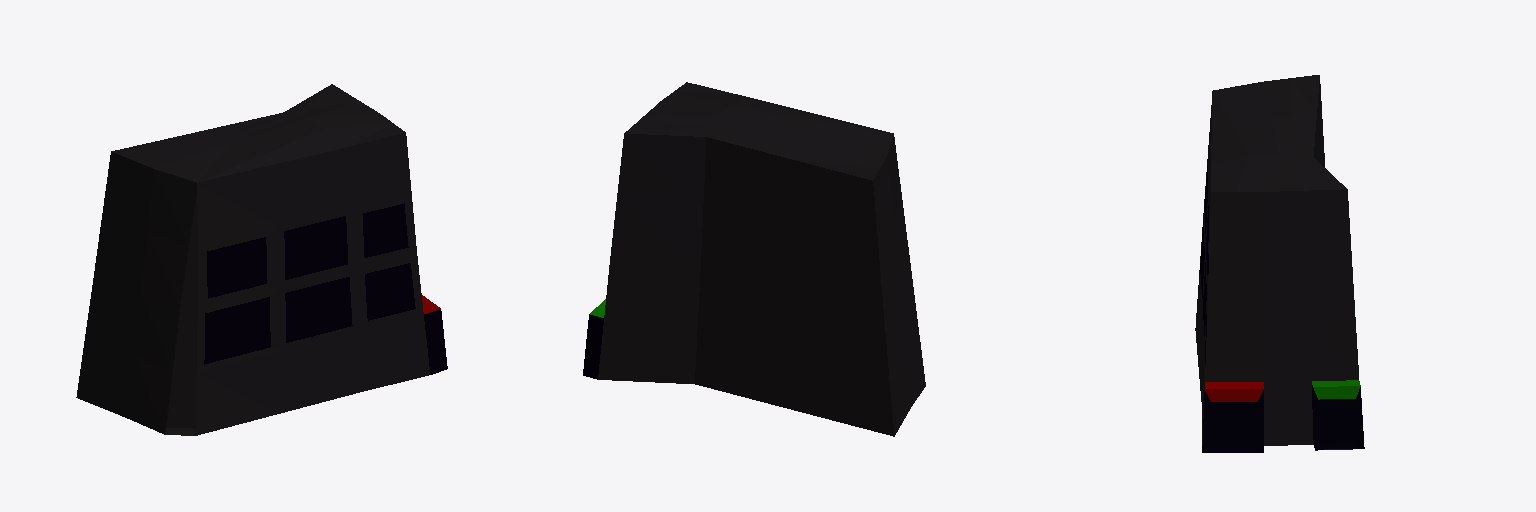
The model's file is building.obj.
3 renders of one model, left to right at view 1: azimuth 30°, elevation 25°; view 2: azimuth 150°, elevation 25°; view 3: azimuth 270°, elevation 25°, orthographic.
Visible parts, largest first — view 1: Cube; view 2: Cube; view 3: Cube.
Part boxes in pixels (left/top/right/bottom): Cube: left=76, top=84, right=447, bottom=435; Cube: left=583, top=82, right=925, bottom=436; Cube: left=1195, top=75, right=1364, bottom=452.
Size of the model in its own units: 22.96 by 17.95 by 10.99.